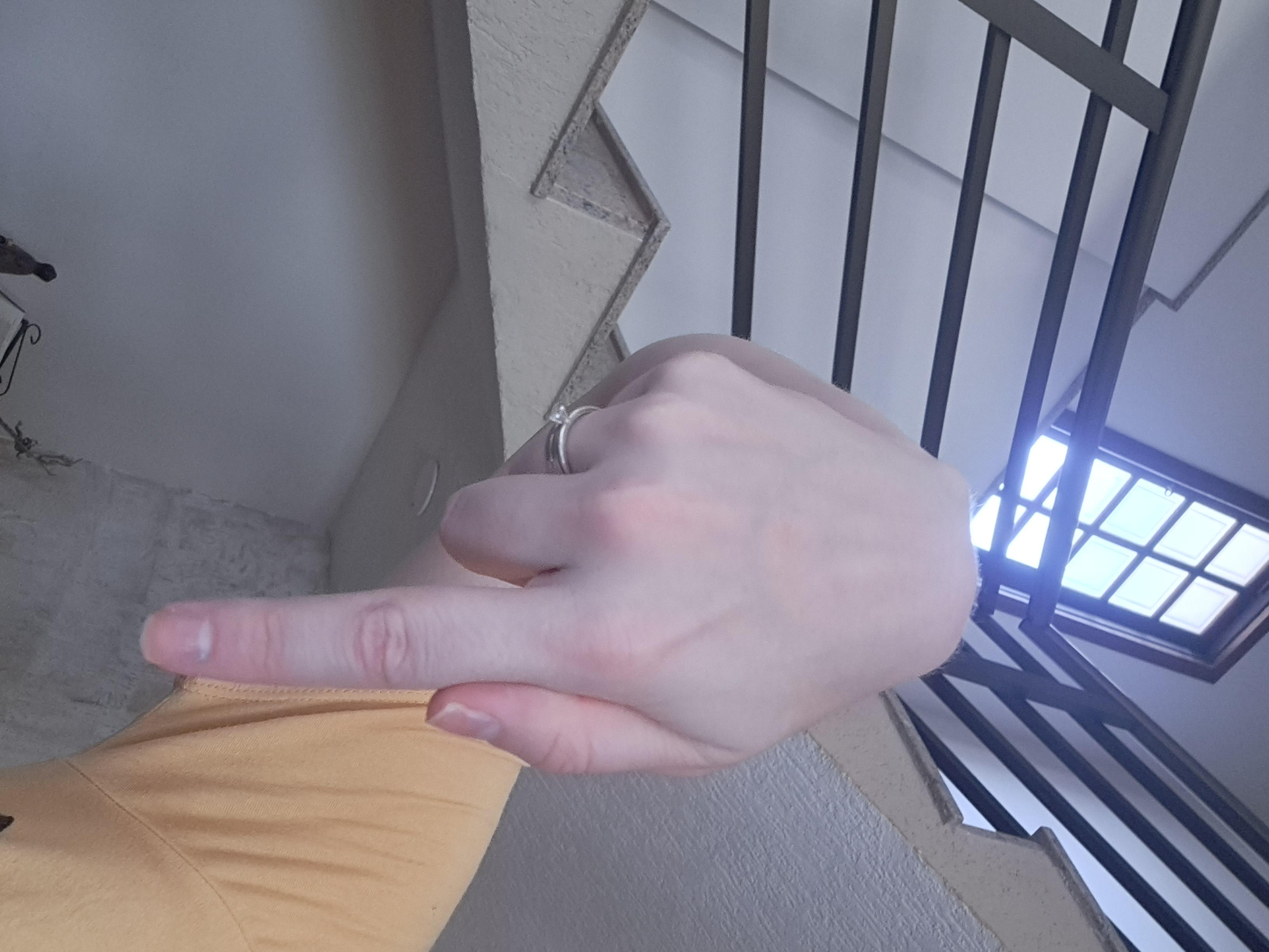Q: (451, 201, 1052, 869)
